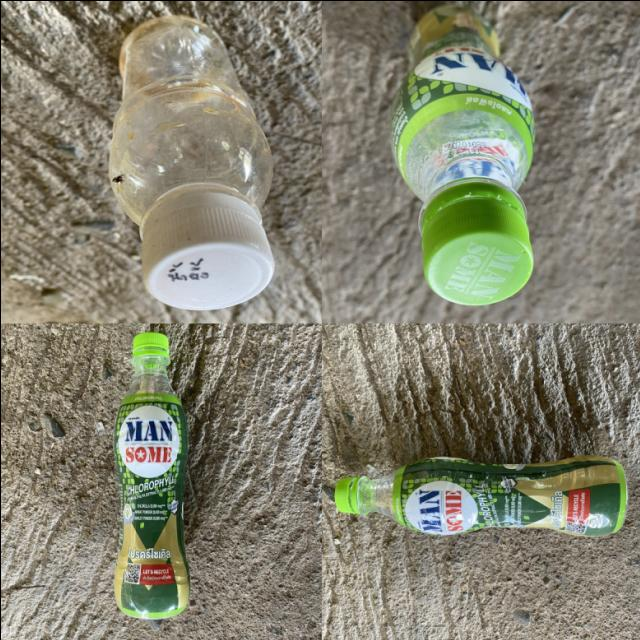plastik: (109, 16, 273, 308), (390, 6, 534, 304), (334, 456, 625, 535), (113, 331, 188, 618)
